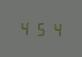five: (33, 19, 46, 37)
four: (18, 19, 31, 36), (47, 20, 60, 37)
